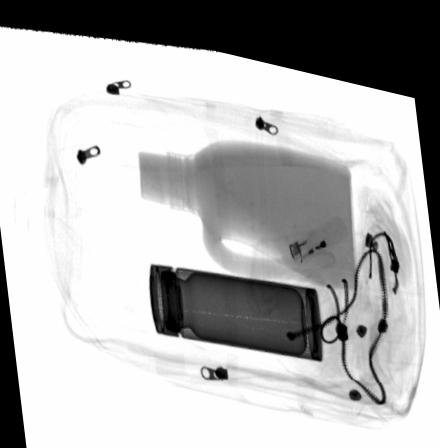Lighter: (287, 199, 347, 251)
